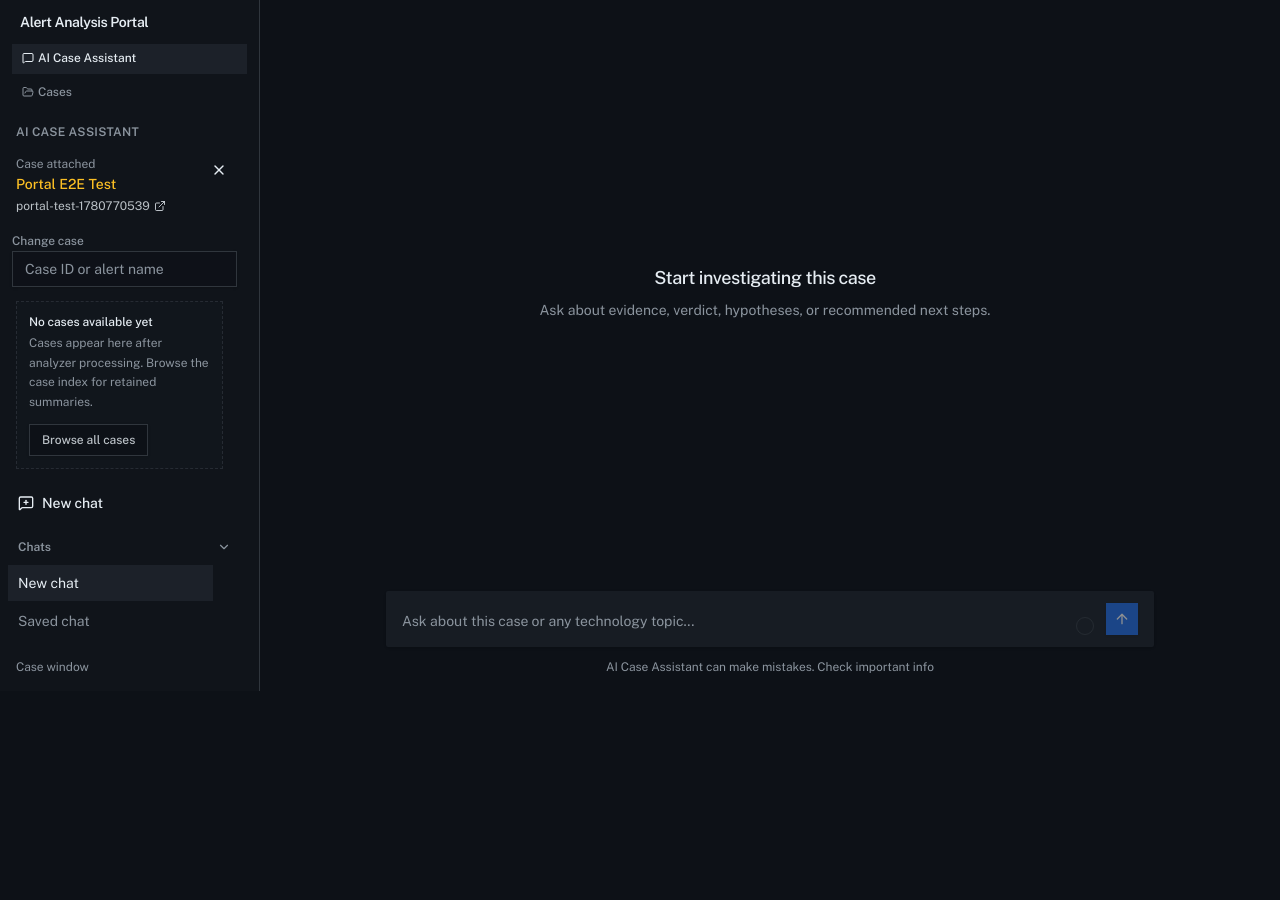
it: HomeChatWorkspace server chat sessions › loads server chat history on the first click of a saved session
Click the button "Saved chat": coordinates (110, 621) 8,603 -> 213,639
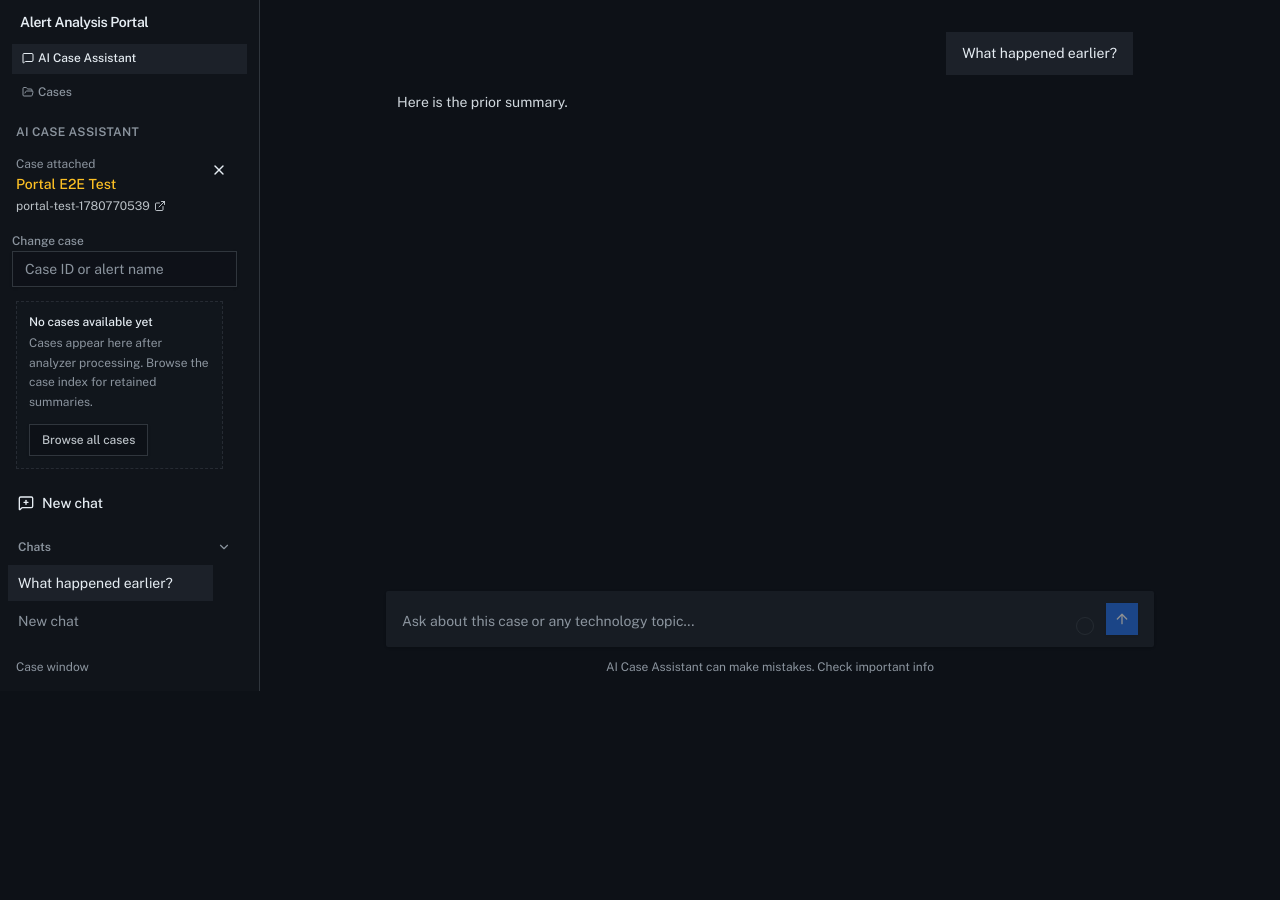
expect the text "What happened earlier?" is shown: met, box 946,32 -> 1133,75
